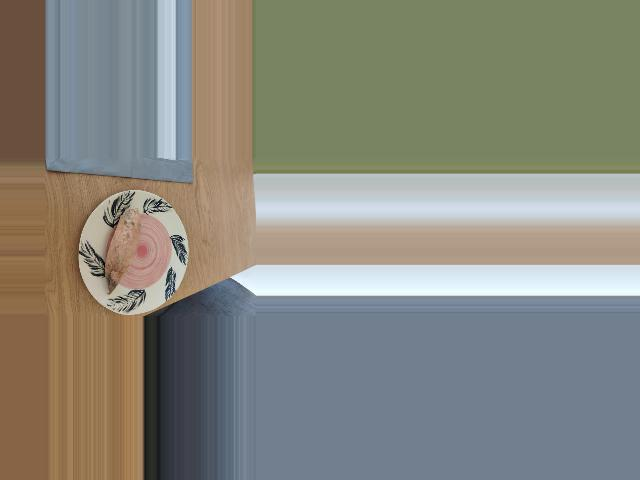sweet_potato: (98, 211, 146, 287)
